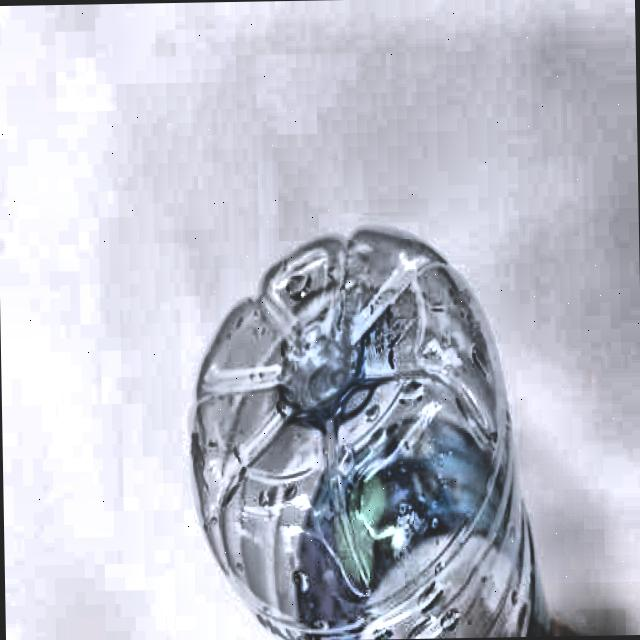plastic: (186, 226, 551, 640)
